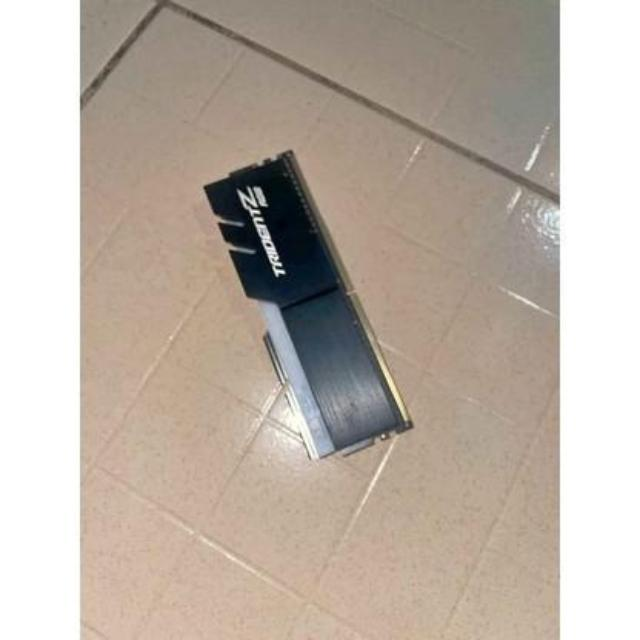RAM: (193, 144, 424, 472)
